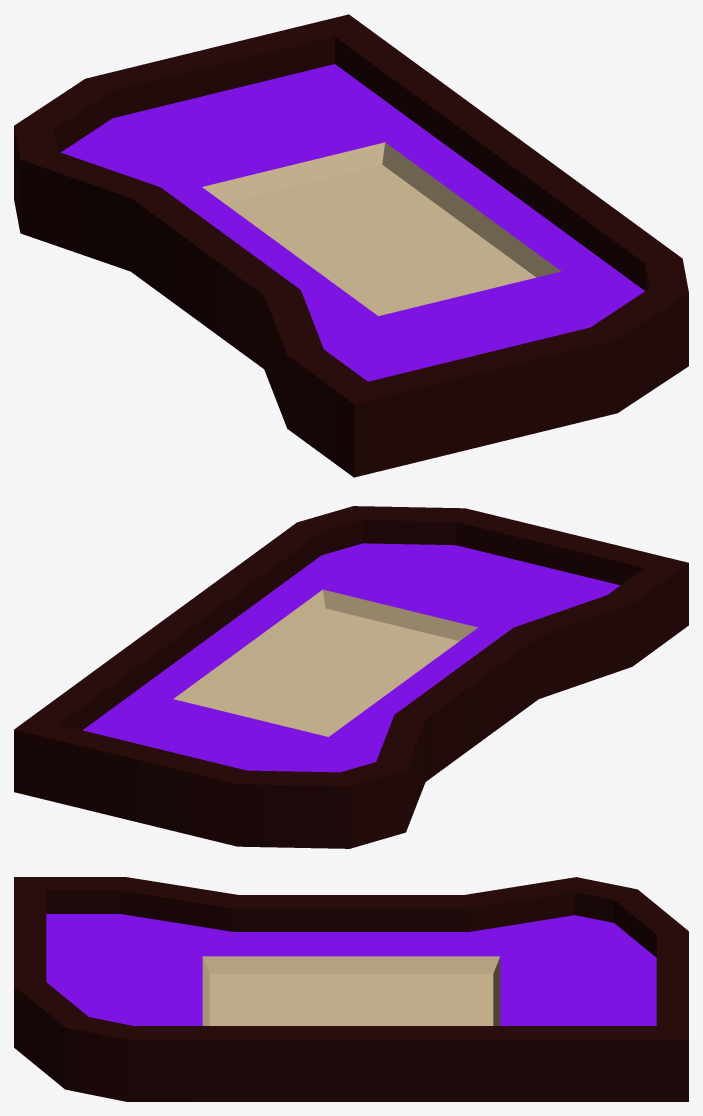
Rendered from mesh_door_code.FBX.
3 renders of one model, top to bottom at view 1: azimuth 30°, elevation 25°; view 2: azimuth 150°, elevation 25°; view 3: azimuth 270°, elevation 25°, orthographic. The views are drawn at different scales.
Parts seen in each view (by area): view 1: Box001; view 2: Box001; view 3: Box001.
Part boxes in pixels (x1=…): Box001: x1=14, y1=14, x2=688, y2=477; Box001: x1=14, y1=506, x2=688, y2=848; Box001: x1=14, y1=877, x2=688, y2=1101.
Size of the model in its own units: 17.78 by 3.17 by 31.19.
